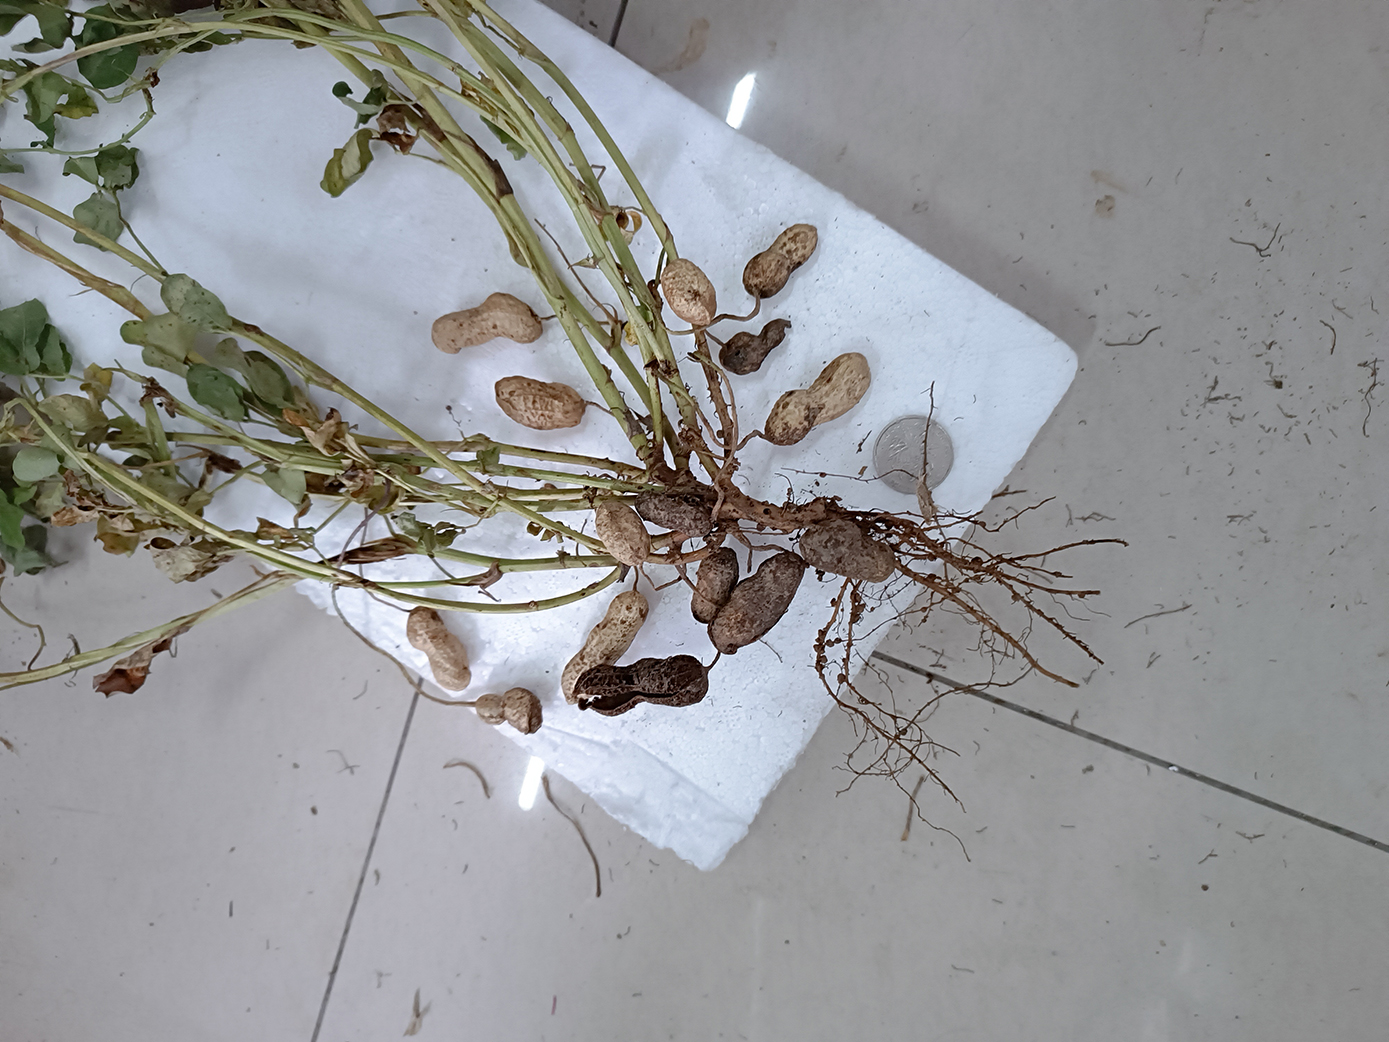h: (764, 351, 872, 445), (562, 591, 649, 707), (430, 292, 543, 354), (405, 605, 472, 692), (495, 375, 584, 430), (662, 258, 718, 327), (597, 501, 650, 564), (474, 687, 541, 736)
l: (708, 552, 805, 656), (575, 655, 708, 717), (799, 522, 894, 580), (742, 223, 817, 297), (718, 319, 790, 377), (692, 548, 739, 625), (636, 489, 711, 536)
